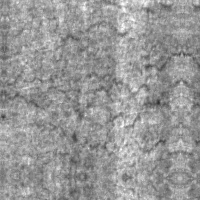crazing: (3, 70, 168, 143)
